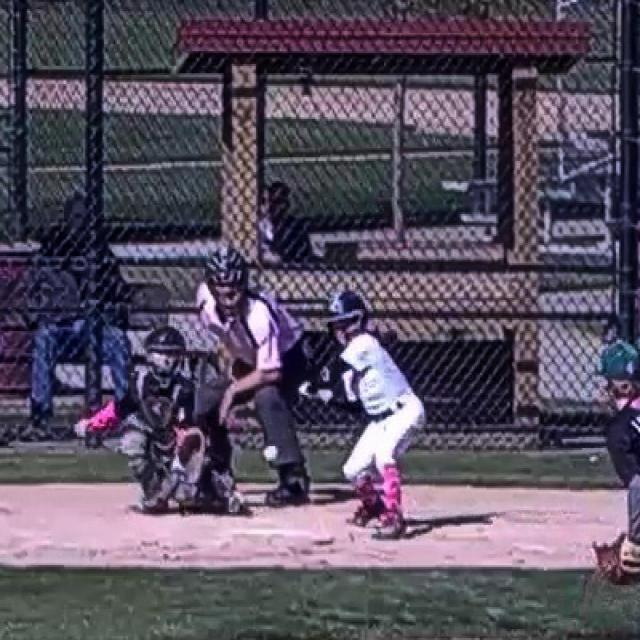baseball: (264, 446, 278, 460)
